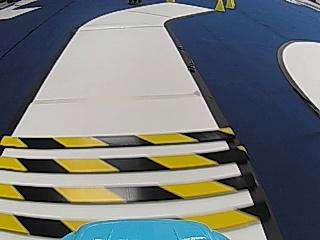bump: (6, 122, 257, 227)
